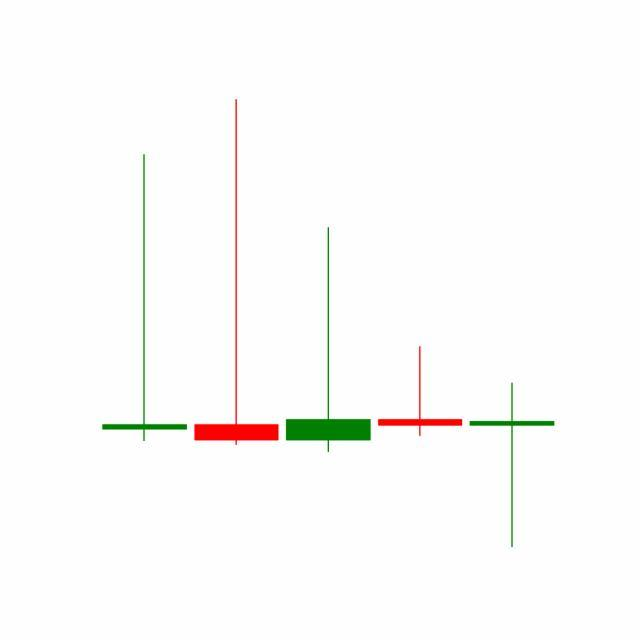Spinning Top: (466, 382, 559, 551)
